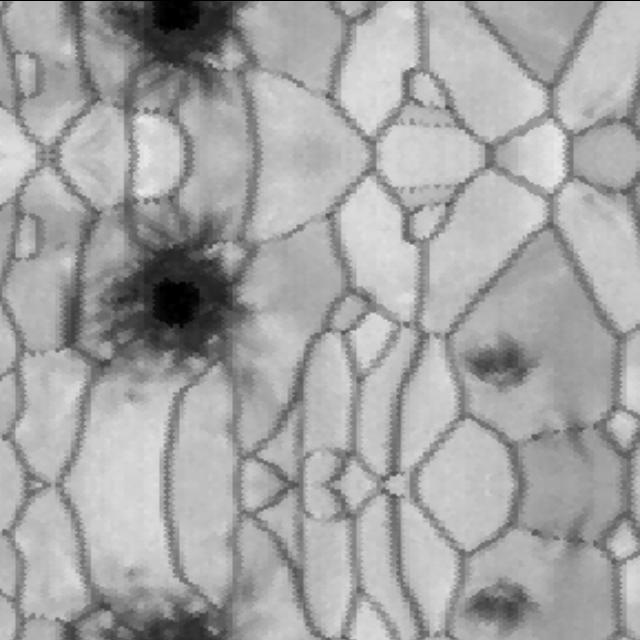good_void: (32, 175, 250, 408), (44, 0, 250, 135), (32, 562, 236, 640), (446, 323, 564, 398), (446, 572, 564, 640), (514, 398, 615, 473), (514, 497, 615, 572)
